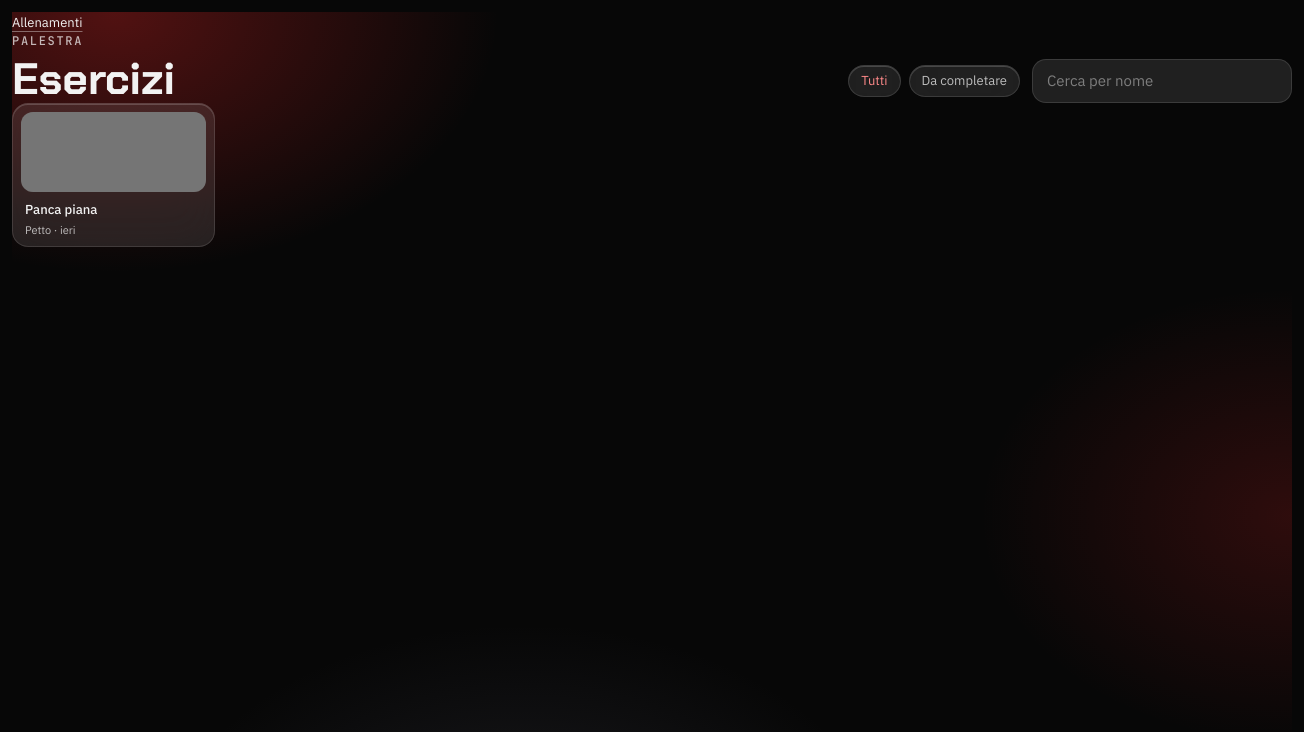
Test case: ExerciseListPage › senza nulla da completare lo dice
Click the radio button labelled "Da completare" at (964, 81), box x1=909 y1=65 x2=1020 y2=97
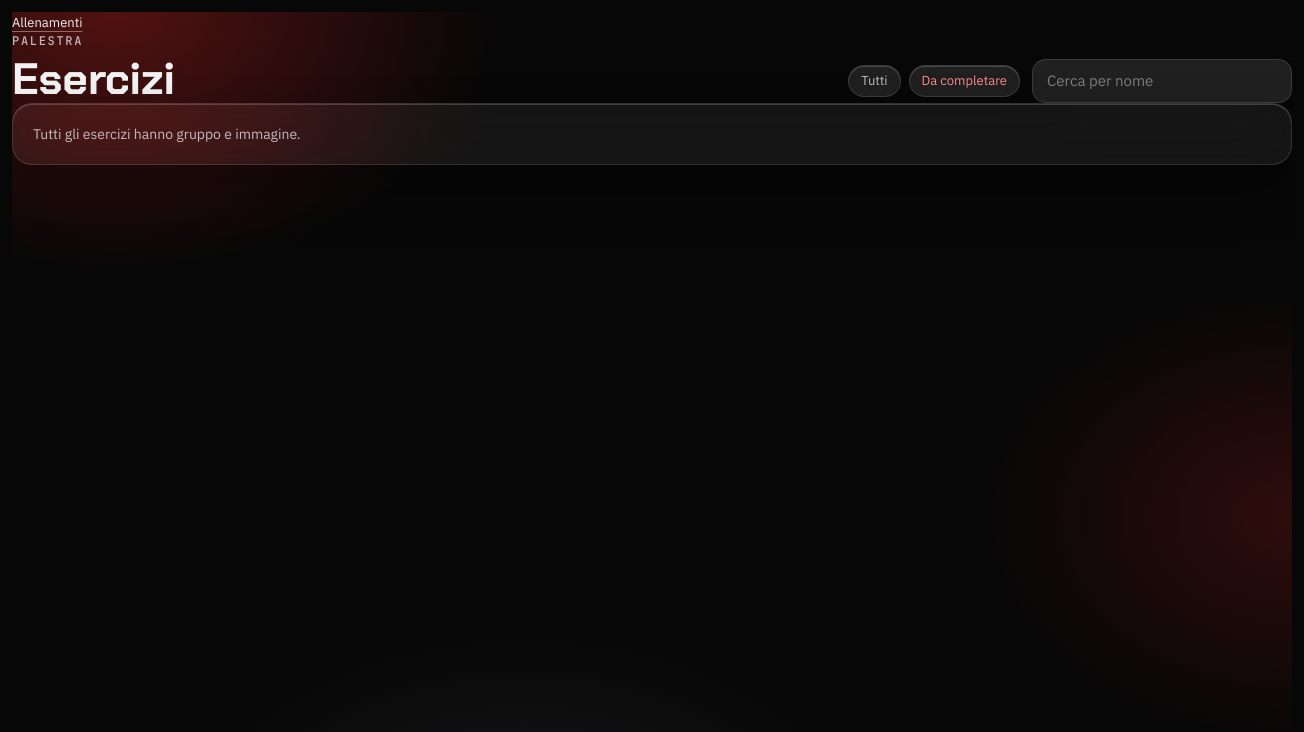
Now the text "Tutti gli esercizi hanno gruppo e immagine." is shown, box x1=12 y1=103 x2=1292 y2=165
